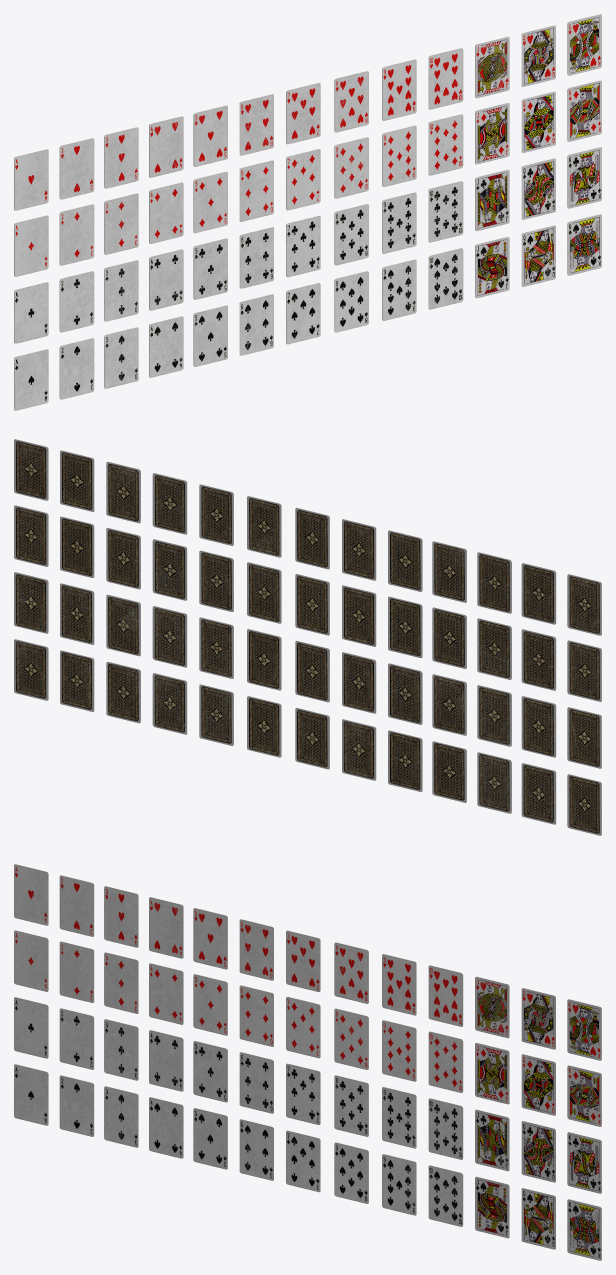
File: playing_cards.glb
The picture shows the model from 3 angles, top to bottom: view 1: azimuth 30°, elevation 25°; view 2: azimuth 150°, elevation 25°; view 3: azimuth 330°, elevation 25°; orthographic projection.
Parts seen in each view (by area): view 1: diamonds02, diamonds10, clubs10, hearts02, hearts10, clubs02, spades02, spades10, hearts07, diamonds03, hearts06, hearts09 (+40 smaller); view 2: diamonds02, diamonds10, clubs10, hearts02, hearts10, clubs02, spades02, spades10, hearts07, diamonds03, hearts06, hearts09 (+40 smaller); view 3: clubs02, diamonds10, diamonds02, spades02, spades10, hearts02, hearts10, clubs10, diamonds05, diamonds11, clubs06, spades07 (+40 smaller).
Part boxes in pixels (left/top/right/bottom): diamonds02: left=59, top=204, right=94, bottom=265; diamonds10: left=428, top=114, right=463, bottom=175; clubs10: left=428, top=181, right=463, bottom=242; hearts02: left=59, top=138, right=94, bottom=199; hearts10: left=428, top=48, right=463, bottom=109; clubs02: left=59, top=271, right=94, bottom=332; spades02: left=59, top=338, right=94, bottom=399; spades10: left=428, top=248, right=463, bottom=309; hearts07: left=286, top=82, right=320, bottom=144; diamonds03: left=104, top=193, right=138, bottom=254; hearts06: left=239, top=94, right=273, bottom=155; hearts09: left=382, top=59, right=416, bottom=120; diamonds02: left=521, top=629, right=556, bottom=690; diamonds10: left=152, top=539, right=187, bottom=600; clubs10: left=152, top=606, right=187, bottom=667; hearts02: left=521, top=563, right=556, bottom=624; hearts10: left=152, top=473, right=187, bottom=534; clubs02: left=521, top=696, right=556, bottom=757; spades02: left=521, top=763, right=556, bottom=824; spades10: left=152, top=673, right=187, bottom=734; hearts07: left=295, top=507, right=329, bottom=569; diamonds03: left=477, top=618, right=511, bottom=679; hearts06: left=342, top=519, right=376, bottom=580; hearts09: left=199, top=484, right=233, bottom=545; clubs02: left=59, top=1008, right=94, bottom=1069; diamonds10: left=428, top=1031, right=463, bottom=1092; diamonds02: left=59, top=941, right=94, bottom=1002; spades02: left=59, top=1075, right=94, bottom=1136; spades10: left=428, top=1165, right=463, bottom=1226; hearts02: left=59, top=875, right=94, bottom=936; hearts10: left=428, top=965, right=463, bottom=1026; clubs10: left=428, top=1098, right=463, bottom=1159; diamonds05: left=193, top=974, right=227, bottom=1035; diamonds11: left=475, top=1042, right=509, bottom=1104; clubs06: left=239, top=1052, right=273, bottom=1113; spades07: left=286, top=1130, right=320, bottom=1192.
Bounding box in the file's own units: 1.37 × 0.5649 × 0.001.
Materials: 1 (1 with a texture image).
